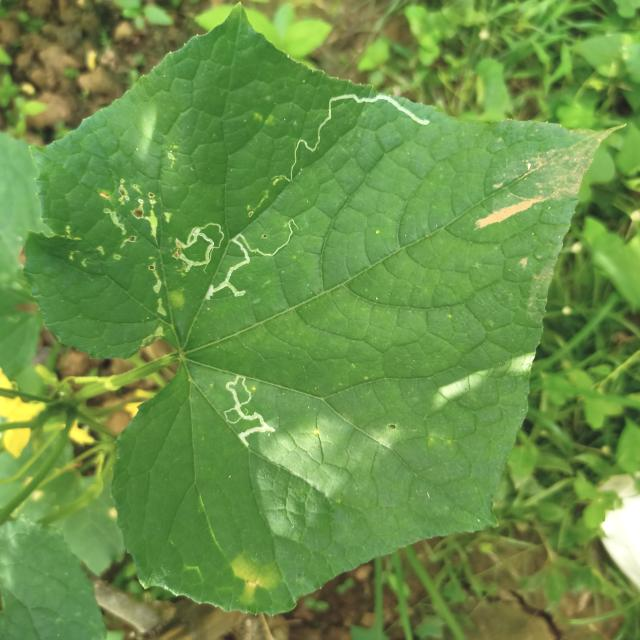disease_cucumber: (234, 552, 275, 606)
